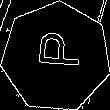P_W: (29, 37, 82, 77)
